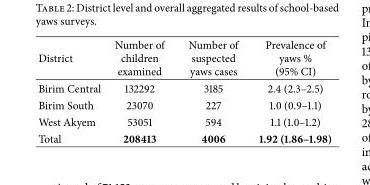table: (37, 36, 330, 145)
table column: (247, 36, 330, 145), (175, 36, 247, 145), (37, 36, 107, 145), (107, 36, 175, 145)
table column header: (37, 36, 330, 79)
table row: (37, 36, 330, 79), (37, 79, 330, 96), (37, 96, 330, 113), (37, 113, 330, 129), (37, 129, 330, 145)
